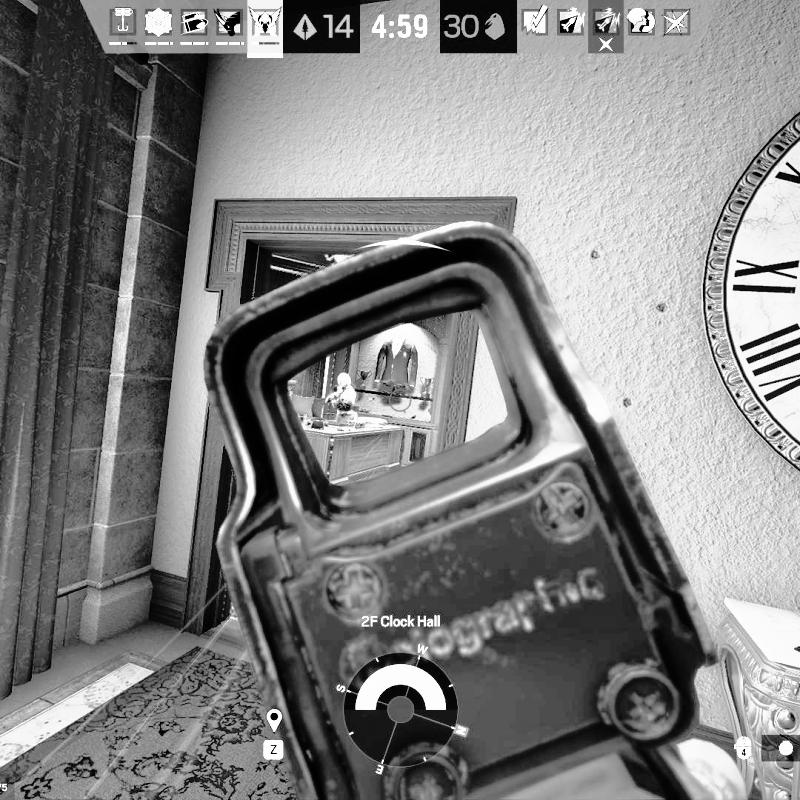Character: (324, 371, 358, 420)
Head: (336, 374, 352, 391)
